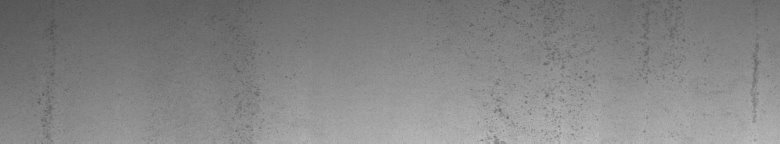ib: (470, 4, 676, 136)
